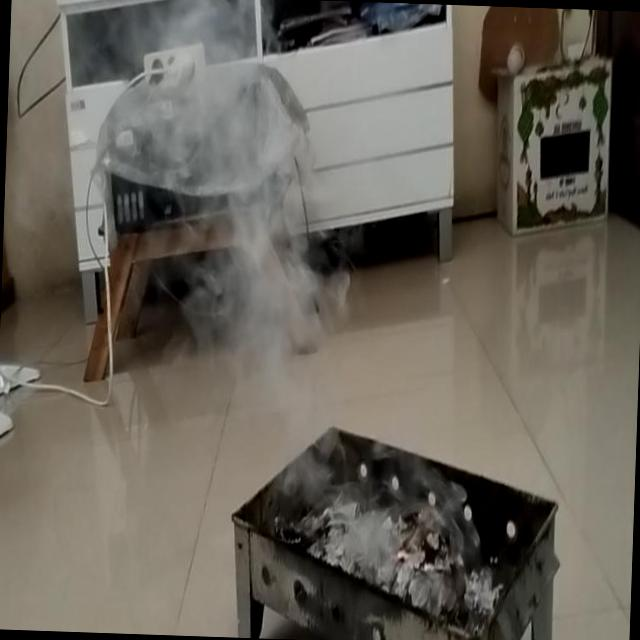smoke: (110, 10, 320, 297), (234, 372, 478, 596)
